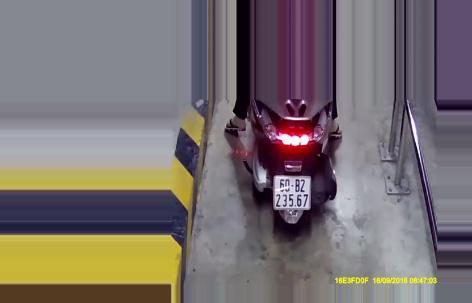License_Plate: (268, 173, 318, 210)
